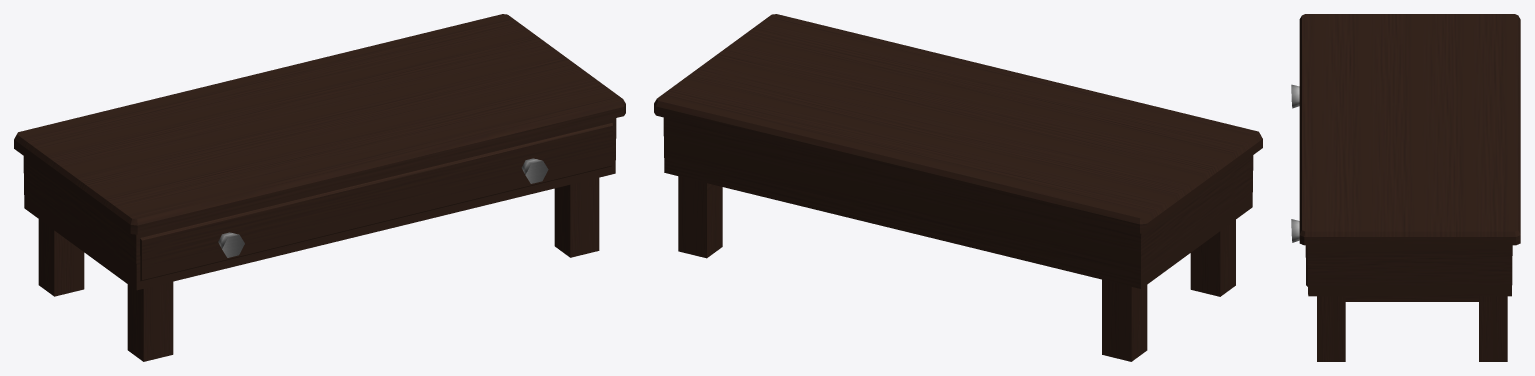
Rendered from Coffee_Table_B_9.FBX.
The picture shows the model from 3 angles, left to right: view 1: azimuth 30°, elevation 25°; view 2: azimuth 150°, elevation 25°; view 3: azimuth 270°, elevation 25°; orthographic projection. The views are drawn at different scales.
Parts seen in each view (by area): view 1: Coffee Table_B; view 2: Coffee Table_B; view 3: Coffee Table_B.
Part boxes in pixels (x1,y1,x2,y2): Coffee Table_B: [14, 14, 625, 361]; Coffee Table_B: [654, 14, 1262, 361]; Coffee Table_B: [1291, 14, 1520, 361].
Size of the model in its own units: 201 by 58.91 by 88.61.
